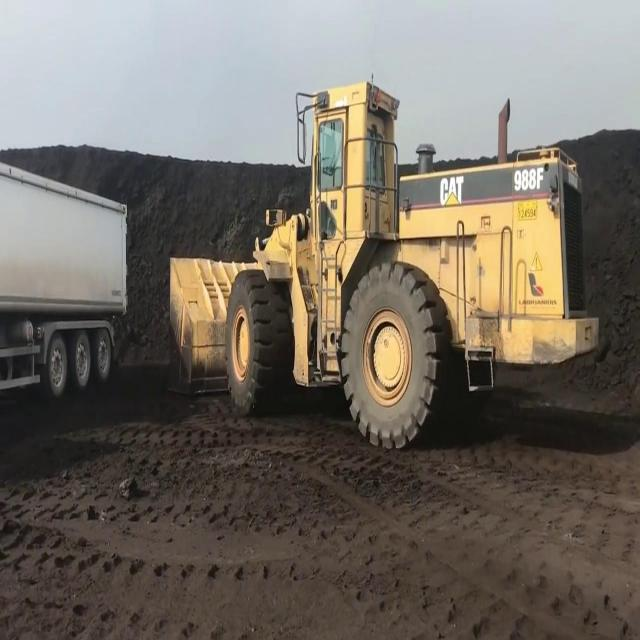Dump Truck: (0, 165, 132, 391)
Loader: (164, 80, 600, 453)
